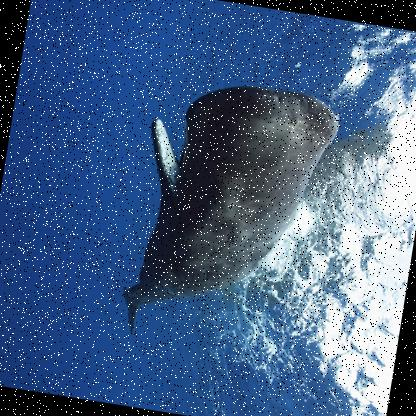sperm_whale: (53, 47, 352, 387)
